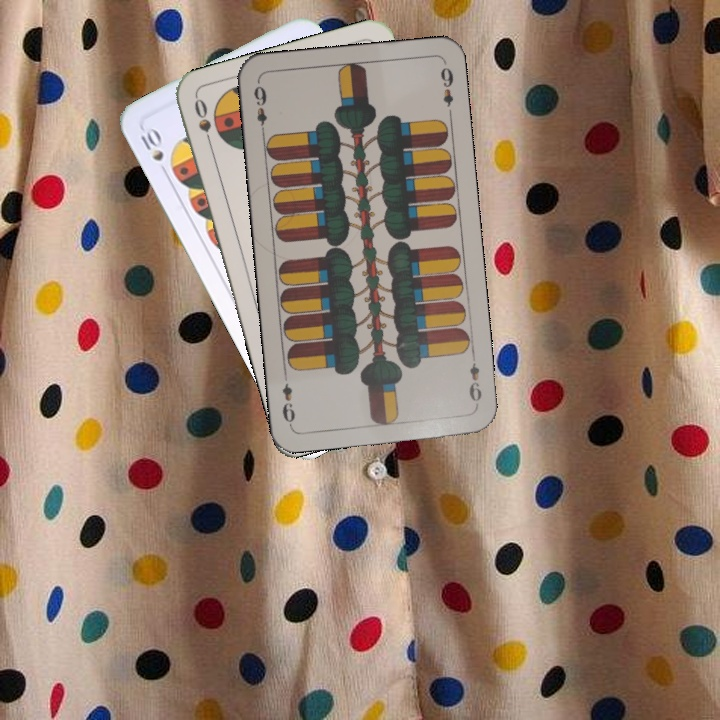E9: (250, 78, 270, 137), (465, 350, 485, 409)
S10: (136, 122, 171, 178)
SO: (190, 94, 216, 153)
